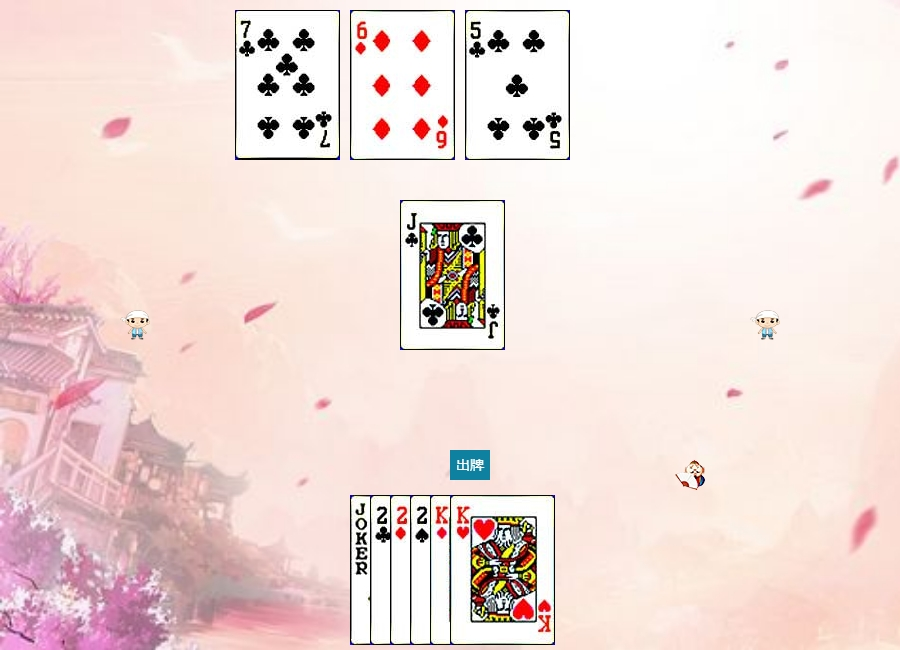11~2: (400, 200, 505, 350)
13~1: (430, 495, 535, 645)
13~3: (450, 495, 555, 645)
15~1: (390, 495, 495, 645)
15~2: (370, 495, 475, 645)
15~4: (410, 495, 515, 645)
17~3: (350, 495, 455, 645)
5~2: (465, 10, 570, 160)
6~1: (350, 10, 455, 160)
7~2: (235, 10, 340, 160)
